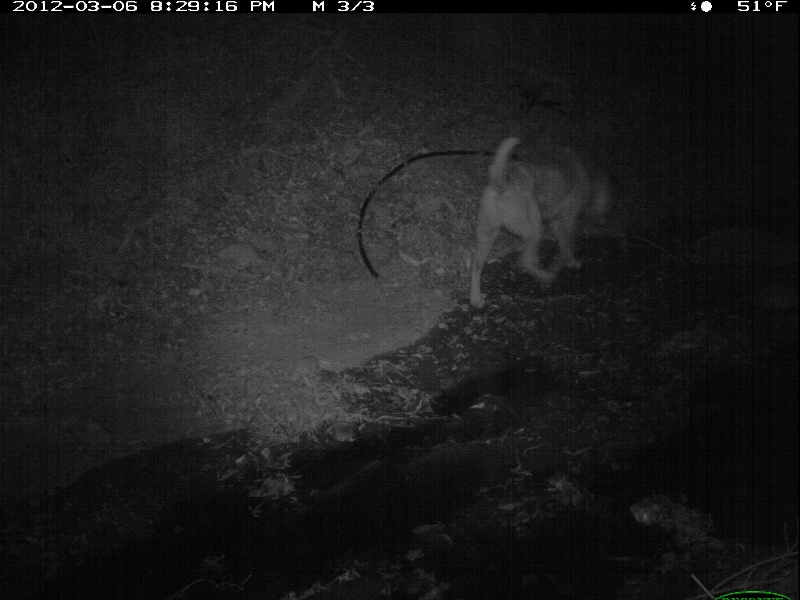dog: (466, 132, 616, 313)
